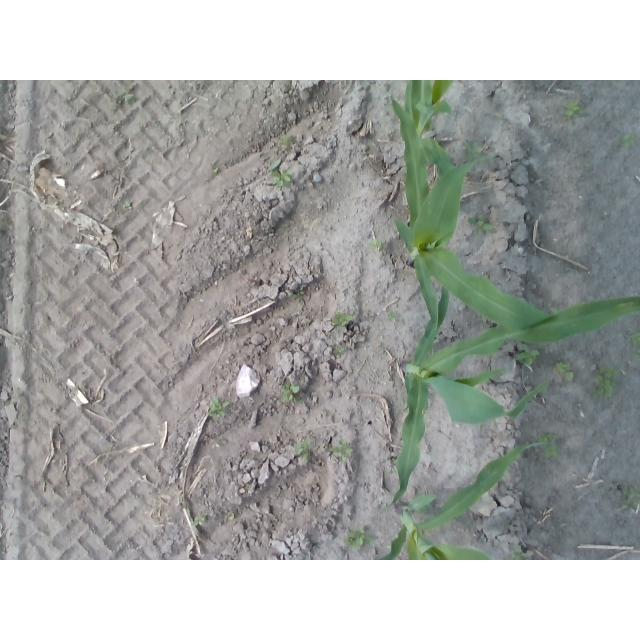Maize: (378, 286, 640, 514), (389, 96, 551, 334), (377, 442, 552, 560), (405, 80, 455, 178)
Weeds: (344, 525, 373, 549), (297, 438, 320, 464), (517, 344, 539, 365), (593, 376, 615, 397), (333, 440, 354, 462), (469, 217, 494, 234), (554, 362, 575, 381), (463, 141, 482, 160), (621, 486, 637, 507), (209, 399, 227, 417), (331, 314, 354, 327), (272, 170, 290, 186), (282, 385, 300, 401), (116, 91, 135, 105), (564, 101, 581, 116), (510, 545, 526, 560), (601, 366, 619, 379), (621, 133, 636, 147), (193, 515, 207, 527), (281, 135, 296, 146), (374, 241, 389, 251), (269, 159, 282, 170), (544, 446, 556, 456), (290, 290, 302, 299), (388, 311, 400, 320), (543, 435, 553, 444), (633, 332, 640, 344), (333, 347, 343, 355), (228, 513, 236, 520), (124, 201, 131, 208), (214, 168, 219, 173)
